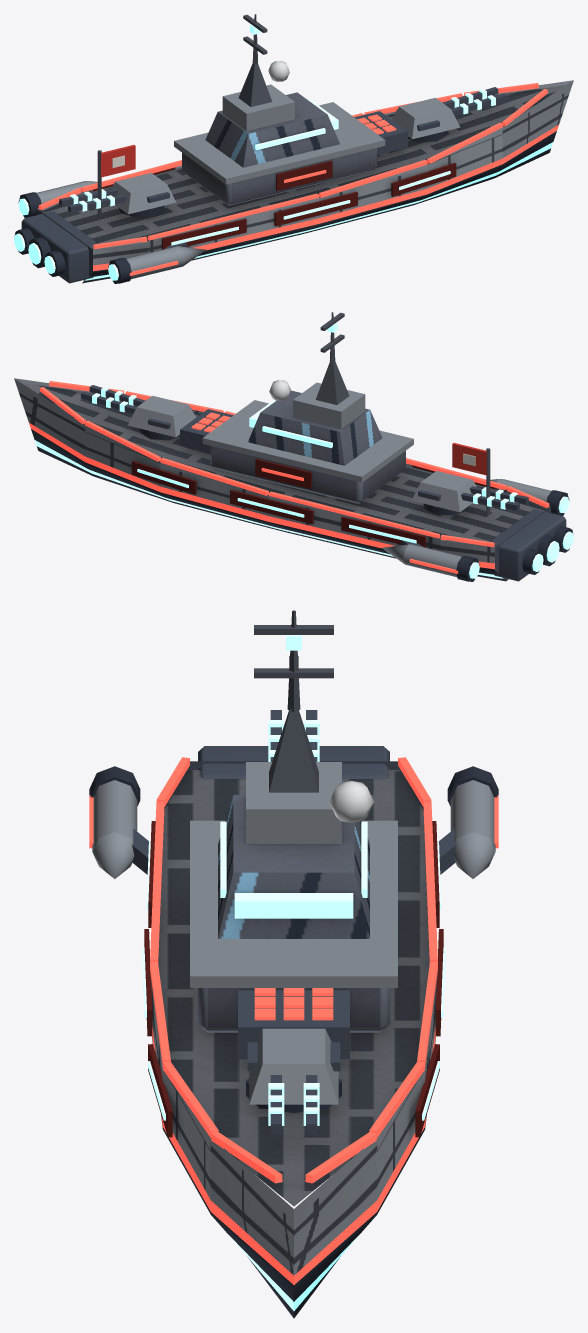
Rendered from cruiser_scifi_red.glb.
3 renders of one model, top to bottom at view 1: azimuth 30°, elevation 25°; view 2: azimuth 150°, elevation 25°; view 3: azimuth 270°, elevation 25°, orthographic. The views are drawn at different scales.
Visible parts, largest first — view 1: cruiser_scifi_red; view 2: cruiser_scifi_red; view 3: cruiser_scifi_red.
Part boxes in pixels (x1,y1,x2,y2): cruiser_scifi_red: (14, 14, 573, 283); cruiser_scifi_red: (14, 312, 573, 581); cruiser_scifi_red: (89, 610, 498, 1318).
Bounding box in the file's own units: 0.78 × 0.29 × 0.256.
Materials: 3 (1 with a texture image).
